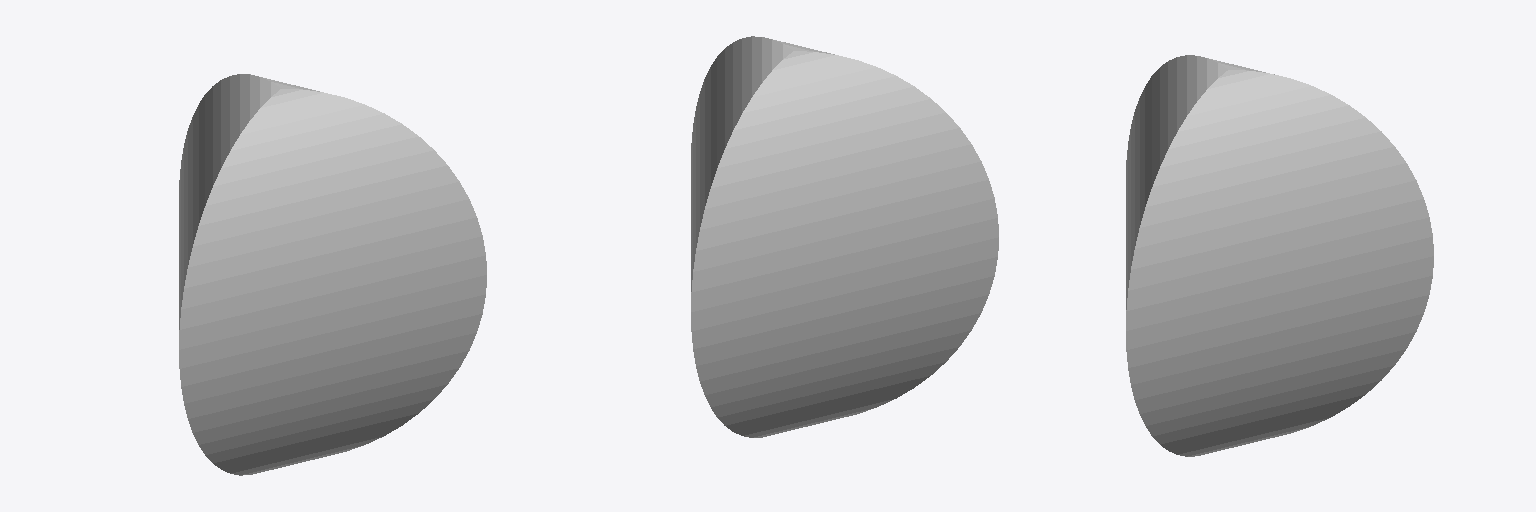
Rendered from peixe.obj.
3 renders of one model, left to right at view 1: azimuth 30°, elevation 25°; view 2: azimuth 150°, elevation 25°; view 3: azimuth 270°, elevation 25°, orthographic.
Parts seen in each view (by area): view 1: Sphere; view 2: Sphere; view 3: Sphere.
Boxes of the visible parts, x1,y1,x2,y2 form: Sphere: [179, 74, 486, 475]; Sphere: [691, 36, 998, 437]; Sphere: [1126, 55, 1433, 456].
Bounding box in the file's own units: 1.73 × 2 × 1.5.